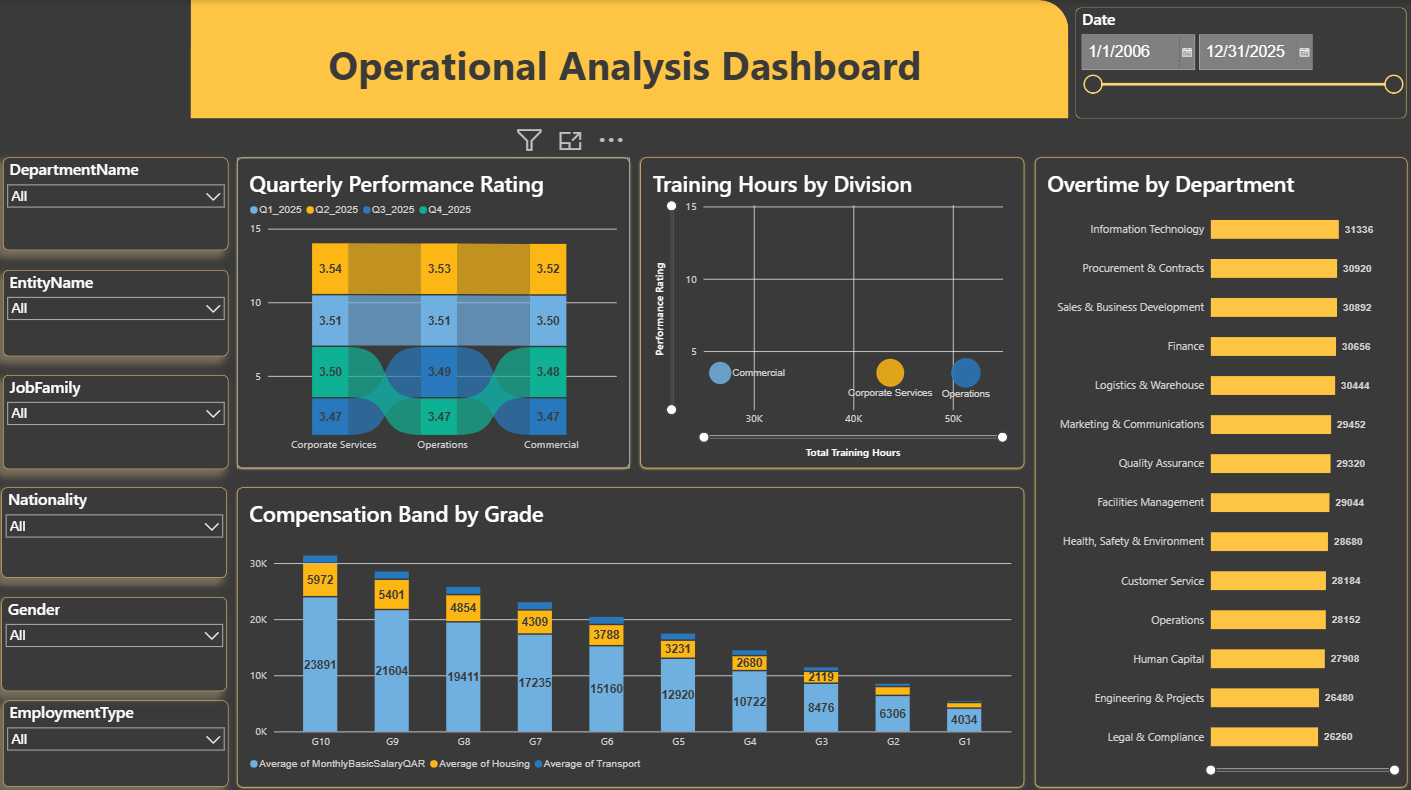

Layout of this report page (visuals, bound fields, positions):
{"tool":"powerbi","page":{"name":"Operationals Analysis","canvas":[1920,1080],"ordinal":3},"visuals":[{"type":"shape","box":[257,0,1186.8,160.3],"z":1000},{"type":"slicer","fields":{"Values":["DateTable.Date"]},"box":[1454.4,10.6,447.5,149.7],"z":2000},{"type":"slicer","fields":{"Values":["Departments.DepartmentName"]},"box":[3.5,212.6,304.9,125.4],"z":3000},{"type":"slicer","fields":{"Values":["Locations.EntityName"]},"box":[3.5,365.9,304.9,116.7],"z":4000},{"type":"slicer","fields":{"Values":["Jobs.JobFamily"]},"box":[3.5,507,304.9,127.2],"z":5000},{"type":"slicer","fields":{"Values":["FinalMasterData.Nationality"]},"box":[1.7,658.6,304.9,122],"z":6000},{"type":"slicer","fields":{"Values":["FinalMasterData.Gender"]},"box":[1.7,806.7,304.9,127.2],"z":7000},{"type":"slicer","fields":{"Values":["FinalMasterData.EmploymentType"]},"box":[3.5,947.8,304.9,116.7],"z":8000},{"type":"ribbonChart","title":"Quarterly Performance Rating","fields":{"Category":["Departments.Division"],"Series":["Performance.Quarter"],"Y":["Avg(Performance.Rating)"]},"box":[320.5,213.2,530.6,420.3],"z":9000},{"type":"columnChart","title":"Compensation Band by Grade","fields":{"Category":["FinalMasterData.Grade"],"Y":["Avg(FinalMasterData.MonthlyBasicSalaryQAR)","Avg(FinalMasterData.Housing)","Avg(FinalMasterData.Transport)"]},"box":[320.5,659.1,1064.3,405.2],"z":10000},{"type":"scatterChart","title":"Training Hours by Division","fields":{"Series":["Departments.Division"],"Size":["Sum(TrainingRecord.CostQAR)"],"X":["Sum(TrainingRecord.TrainingHours)"],"Y":["Avg(Performance.Rating)"]},"box":[866.3,213.2,518.6,420.3],"z":11000},{"type":"clusteredBarChart","title":"Overtime by Department","fields":{"Category":["Departments.DepartmentName"],"Y":["Sum(Monthly_Attendance.OvertimeHours)"]},"box":[1399.9,213.2,503.4,851.1],"z":12000}]}

Visuals, with their boxes in screenshot pixels (x1, y1, x2, y2), scaled from the page's 1920x1080 canvas onto the 1411x790 screenshot:
shape: 189, 0, 1061, 117
slicer - DateTable.Date: 1069, 8, 1398, 117
slicer - Departments.DepartmentName: 3, 156, 227, 247
slicer - Locations.EntityName: 3, 268, 227, 353
slicer - Jobs.JobFamily: 3, 371, 227, 464
slicer - FinalMasterData.Nationality: 1, 482, 225, 571
slicer - FinalMasterData.Gender: 1, 590, 225, 683
slicer - FinalMasterData.EmploymentType: 3, 693, 227, 779
"Quarterly Performance Rating" ribbonChart: 236, 156, 625, 463
"Compensation Band by Grade" columnChart: 236, 482, 1018, 779
"Training Hours by Division" scatterChart: 637, 156, 1018, 463
"Overtime by Department" clusteredBarChart: 1029, 156, 1399, 779
